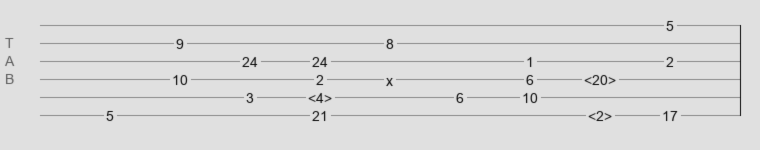1: (526, 54, 534, 64)
10: (172, 72, 188, 82), (522, 90, 538, 100)
17: (662, 108, 678, 118)
2: (316, 72, 324, 82), (666, 54, 674, 64)
21: (312, 108, 328, 118)
24: (242, 54, 258, 64), (312, 54, 328, 64)
3: (246, 90, 254, 100)
5: (106, 108, 114, 118), (666, 18, 674, 28)
6: (456, 90, 464, 100), (526, 72, 534, 82)
8: (386, 36, 394, 46)
9: (176, 36, 184, 46)
harmonic: (584, 72, 616, 82), (308, 90, 332, 100), (588, 108, 612, 118)
x: (386, 73, 393, 81)
